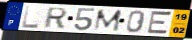0: (126, 10, 147, 34)
5: (73, 8, 97, 32)
E: (145, 9, 174, 36)
L: (22, 5, 41, 29)
M: (93, 9, 124, 32)
R: (42, 7, 69, 29)
